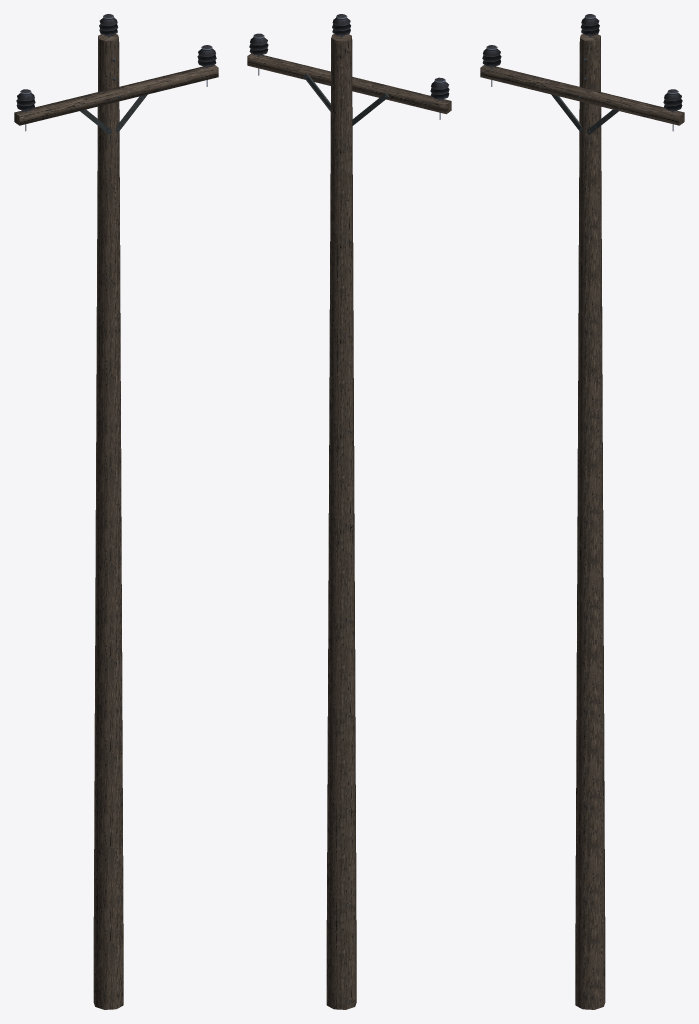
Rendered from pole_wood_c_lod_0.glb.
The picture shows the model from 3 angles, left to right: view 1: azimuth 30°, elevation 25°; view 2: azimuth 150°, elevation 25°; view 3: azimuth 330°, elevation 25°; orthographic projection.
Visible parts, largest first — view 1: pole_wood_c_lod_0; view 2: pole_wood_c_lod_0; view 3: pole_wood_c_lod_0.
Part boxes in pixels (x1=…): pole_wood_c_lod_0: x1=14, y1=14, x2=218, y2=1009; pole_wood_c_lod_0: x1=247, y1=14, x2=451, y2=1009; pole_wood_c_lod_0: x1=480, y1=14, x2=684, y2=1009.
Bounding box in the file's own units: 2.2 × 10.42 × 0.3956.
Materials: 2 (2 with a texture image).
